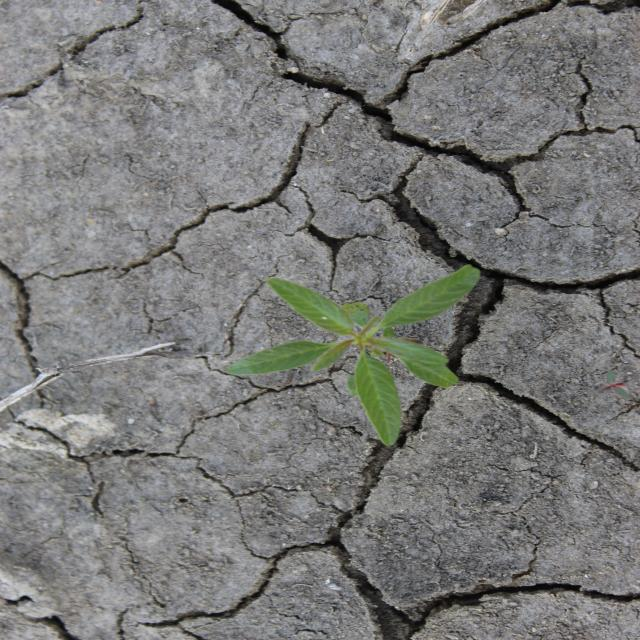Waterhemp: (218, 263, 483, 447)
